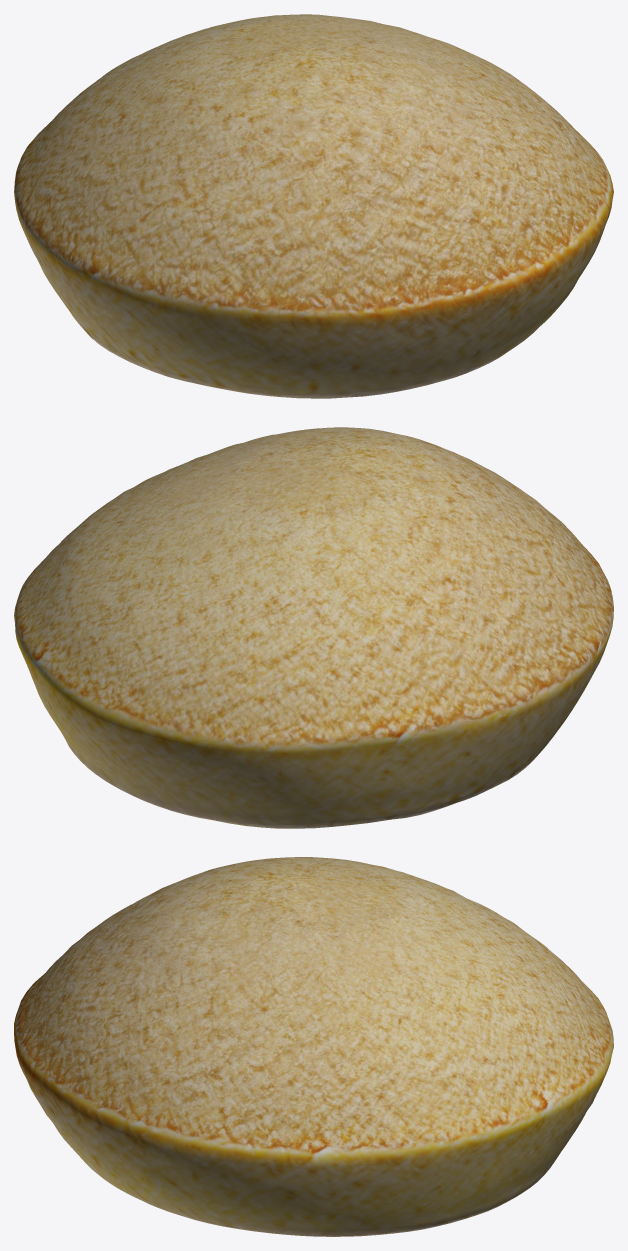
Rendered from Sparmesan.fbx.
3 views of the same model, one above another, from view 1: azimuth 30°, elevation 25°; view 2: azimuth 150°, elevation 25°; view 3: azimuth 270°, elevation 25° (orthographic). The views are drawn at different scales.
Parts seen in each view (by area): view 1: mesh; view 2: mesh; view 3: mesh.
Part boxes in pixels (left/top/right/bottom): mesh: left=14, top=14, right=613, bottom=398; mesh: left=14, top=427, right=613, bottom=828; mesh: left=14, top=857, right=613, bottom=1236.
Size of the model in its own units: 96.01 by 48.71 by 99.74.
